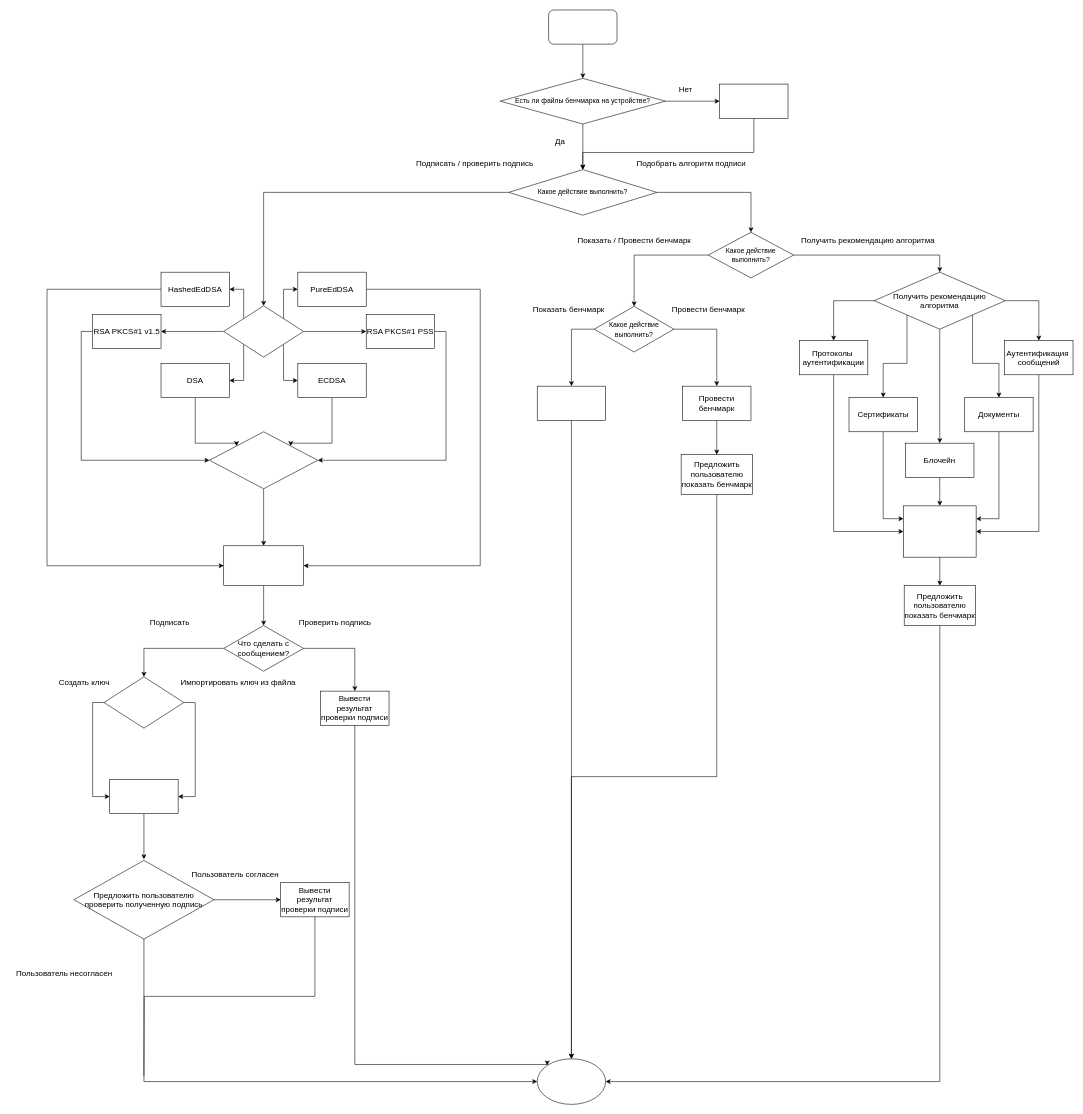
Some shapes in this 1083 by 1114 pixel diagram are drawn without their labels. The shapes that lost their labels are listed below. From the top down, each one's box as (x1, y1, x2, y2) in pixels, then its label:
(548, 9, 617, 44): Начало
(719, 84, 788, 118): Предложить пользователю провести бенчмарк
(223, 305, 304, 357): Выбрать алгоритм подписи
(537, 386, 606, 420): Вывести на экран таблицу с бенчмарком
(209, 431, 318, 489): Выбрать алгоритм хэширования
(903, 505, 976, 557): Показать соответствующие алгоритмы электронной подписи
(223, 545, 304, 586): Введите сообщение для подписи / проверки
(103, 676, 184, 728): Выбрать источник ключа
(109, 779, 178, 814): Подписать сообщение
(537, 1058, 606, 1104): Конец
